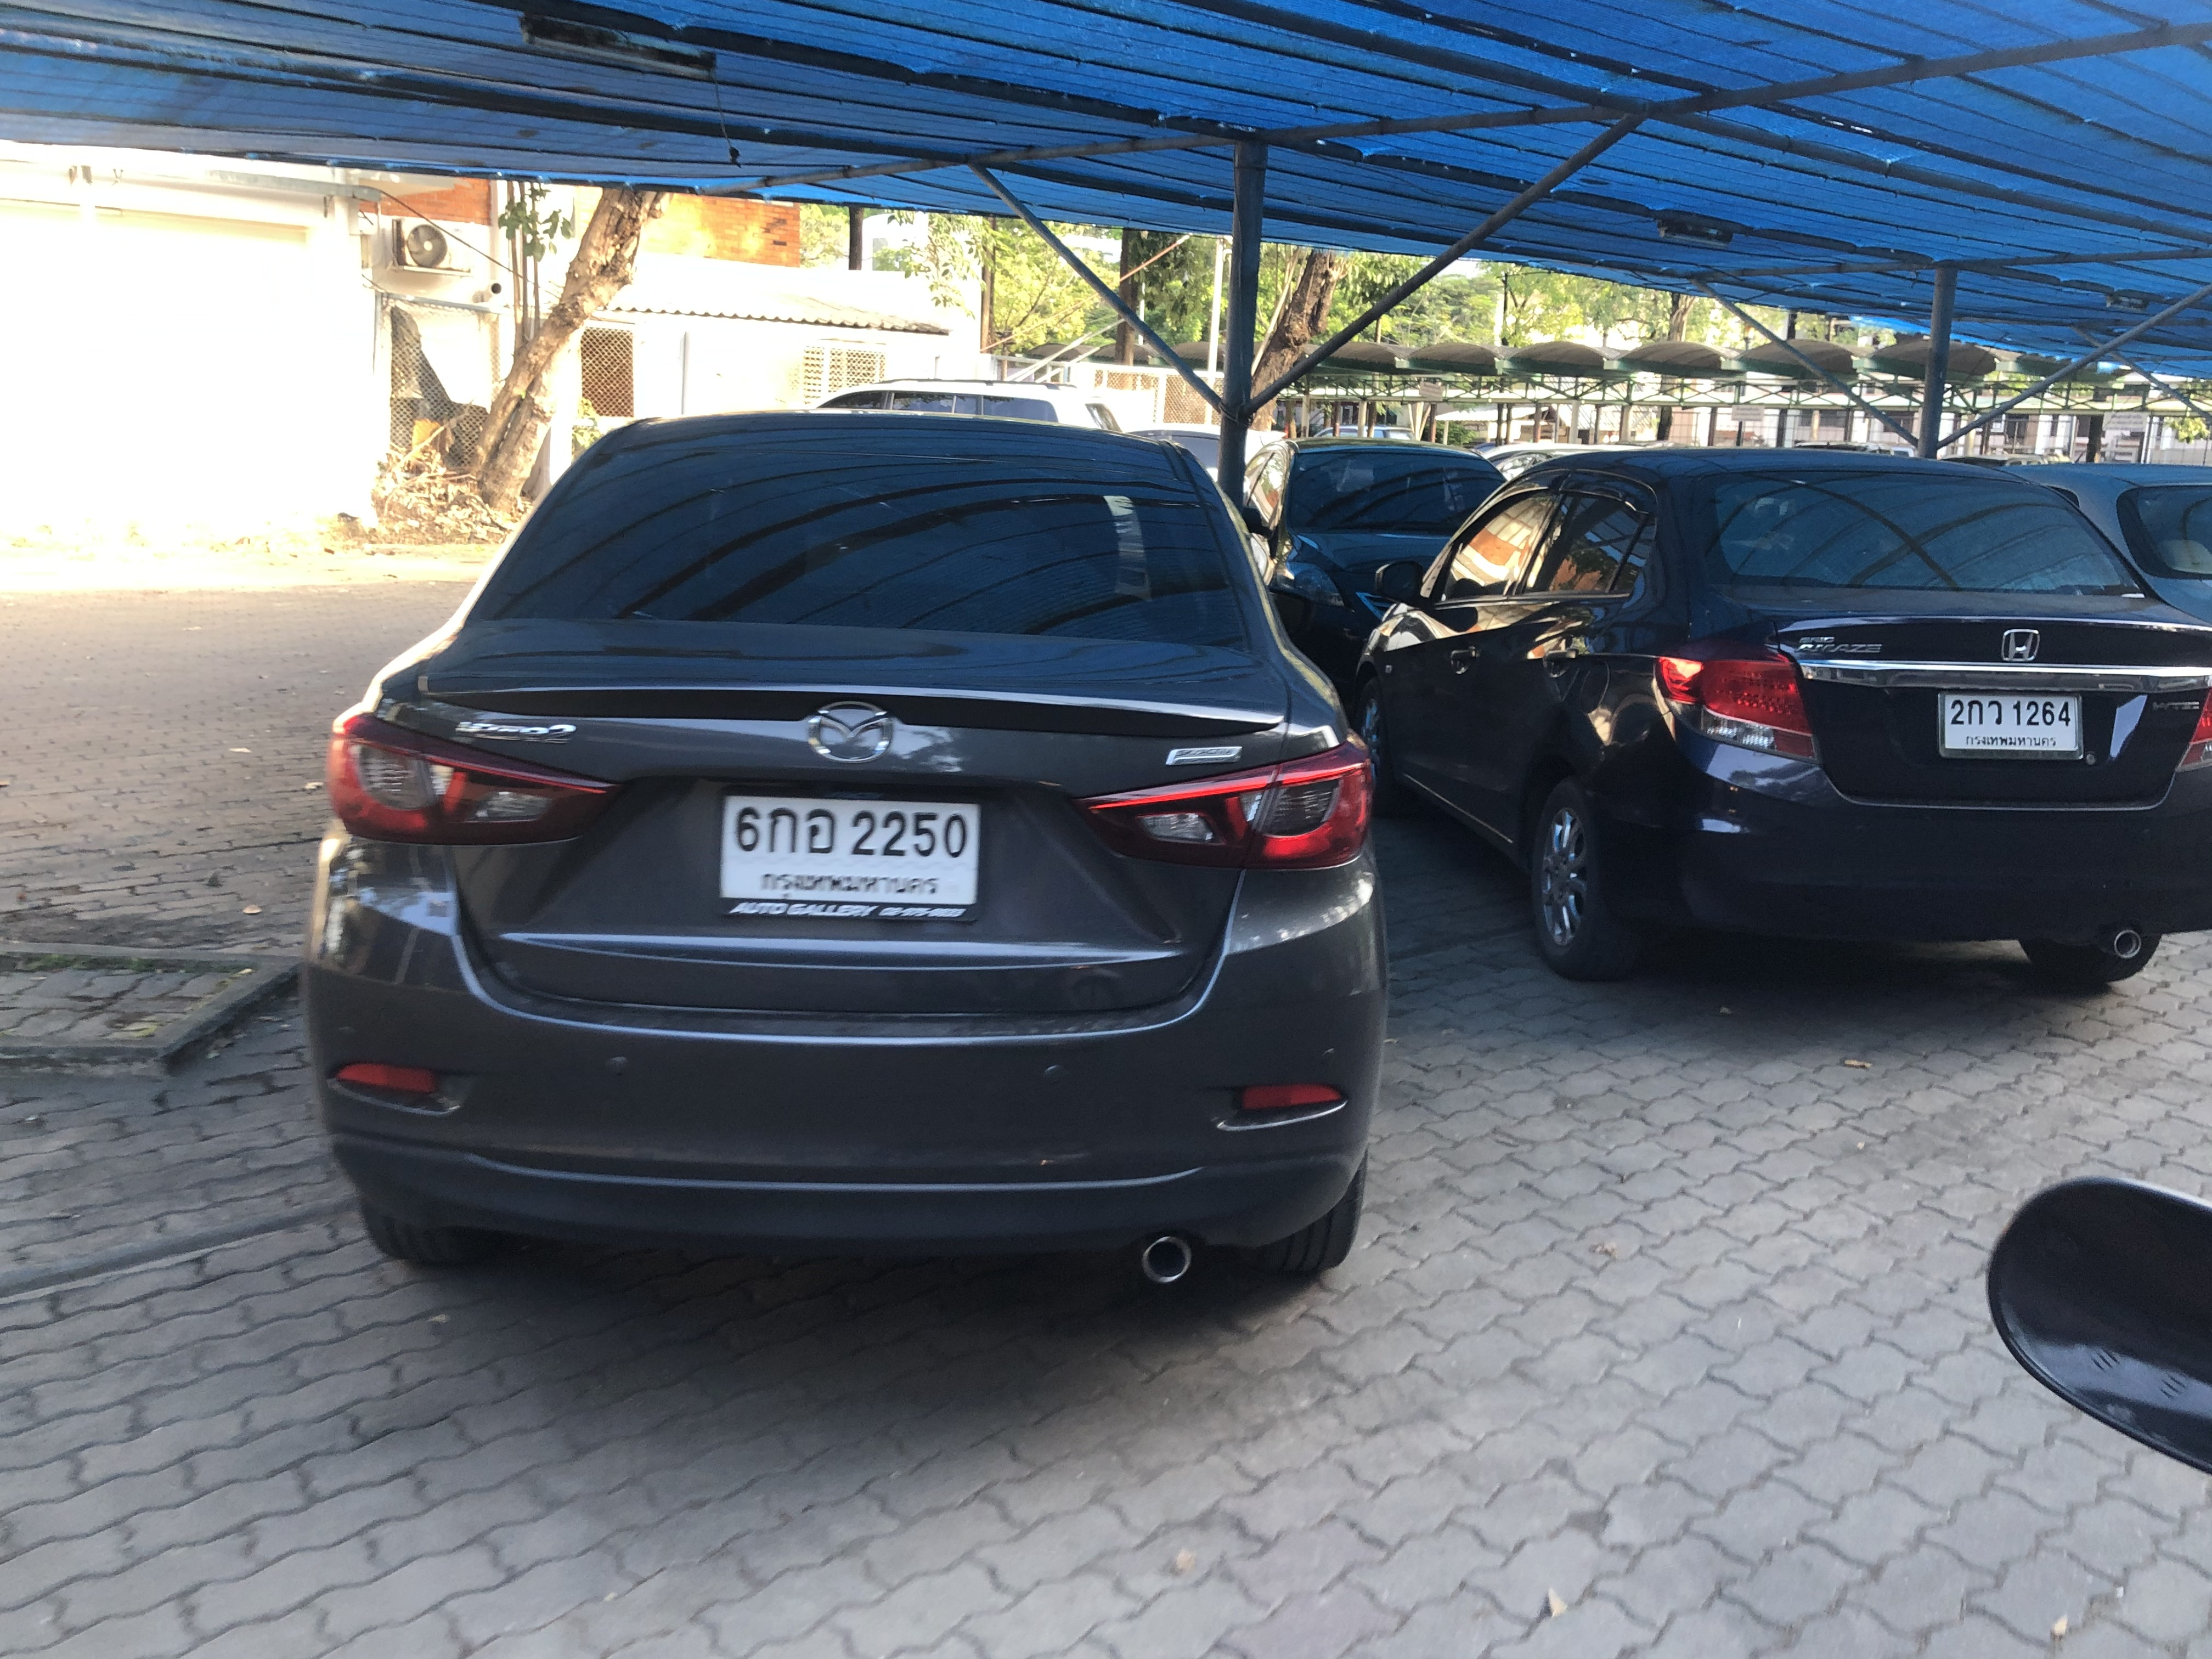in: (719, 795, 979, 910), (1946, 692, 2076, 751)
out: (702, 784, 998, 925), (1935, 683, 2087, 760)
